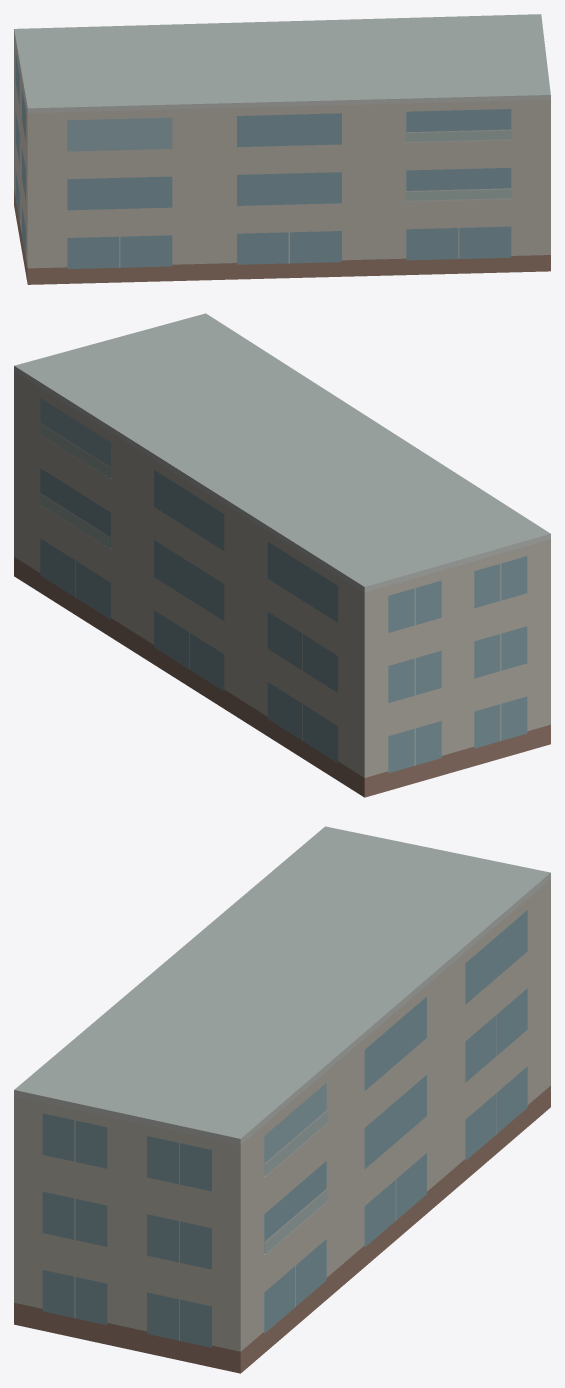
The model's file is survey-upis-32469819.glb.
3 views of the same model, one above another, from view 1: azimuth 30°, elevation 25°; view 2: azimuth 150°, elevation 25°; view 3: azimuth 270°, elevation 25° (orthographic). The views are drawn at different scales.
Parts seen in each view (by area): view 1: survey-upis-32469819.tmp; view 2: survey-upis-32469819.tmp; view 3: survey-upis-32469819.tmp.
Boxes of the visible parts, x1=… form: survey-upis-32469819.tmp: x1=14, y1=14, x2=550, y2=284; survey-upis-32469819.tmp: x1=14, y1=313, x2=550, y2=797; survey-upis-32469819.tmp: x1=14, y1=826, x2=550, y2=1373.
Size of the model in its own units: 26.15 by 9.15 by 18.98.
